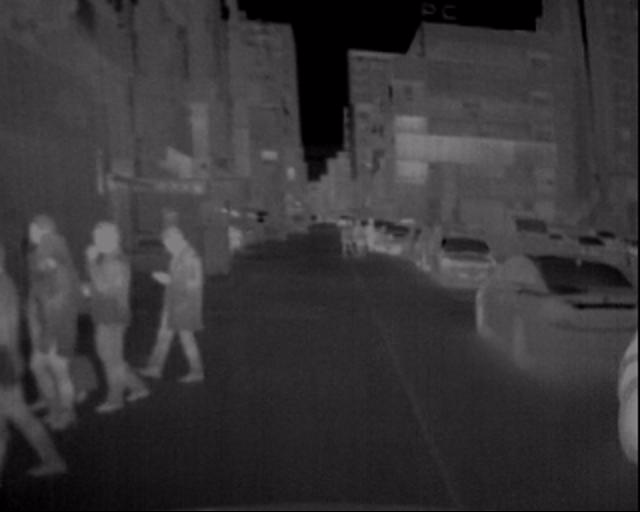person: (61, 207, 137, 443), (0, 194, 60, 486), (129, 210, 212, 404), (330, 204, 360, 270), (349, 203, 375, 270)
